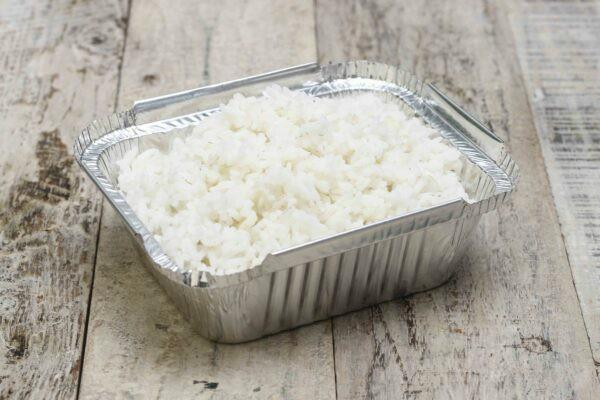WhiteRice: (115, 83, 474, 271)
